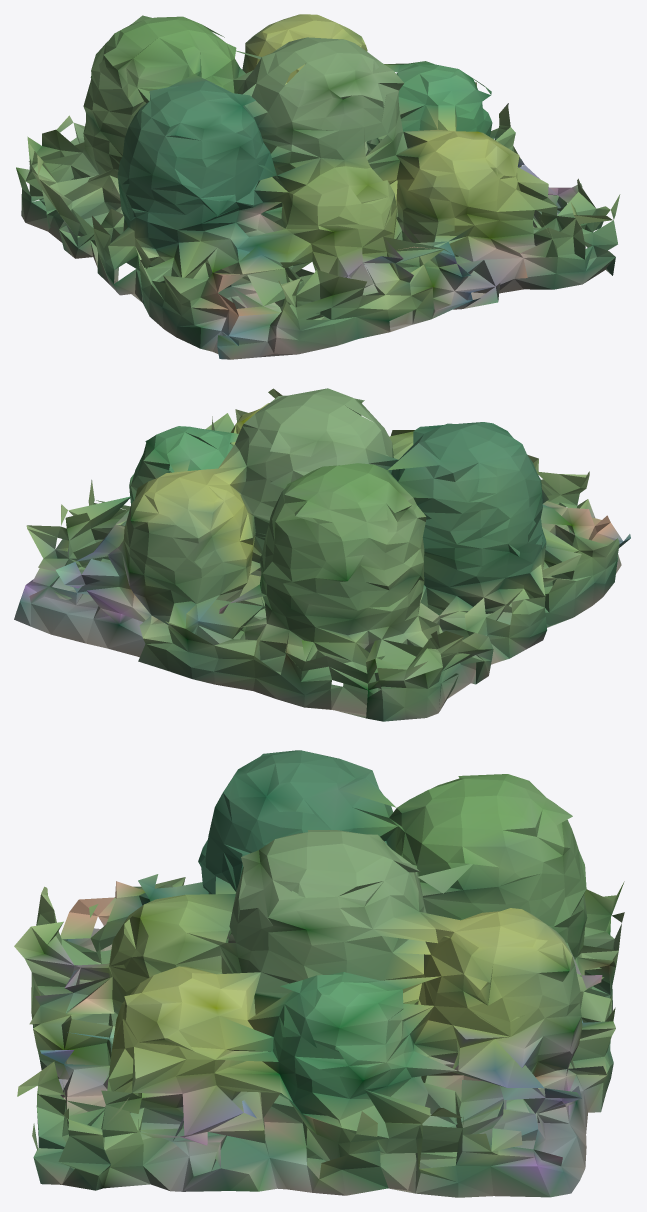
File: decoration_bush_cluster_lod1.glb
The picture shows the model from 3 angles, top to bottom: view 1: azimuth 30°, elevation 25°; view 2: azimuth 150°, elevation 25°; view 3: azimuth 270°, elevation 25°; orthographic projection. The views are drawn at different scales.
Visible parts, largest first — view 1: world; view 2: world; view 3: world.
Part boxes in pixels (x1=…): world: x1=16, y1=14, x2=620, y2=359; world: x1=14, y1=388, x2=630, y2=721; world: x1=14, y1=750, x2=624, y2=1197.
Size of the model in its own units: 1.84 by 0.7612 by 1.82.
